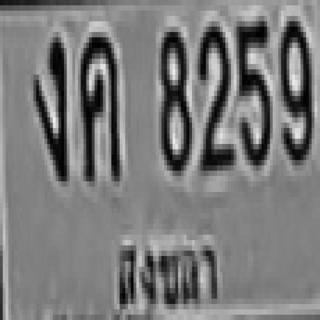A04: (78, 29, 117, 179)
A07: (32, 32, 66, 176)
N02: (198, 21, 231, 165)
N05: (234, 16, 267, 165)
N08: (159, 27, 189, 171)
N09: (278, 16, 312, 160)
P64: (111, 228, 225, 313)
